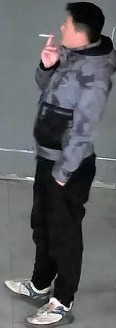smoking: (28, 1, 114, 106)
